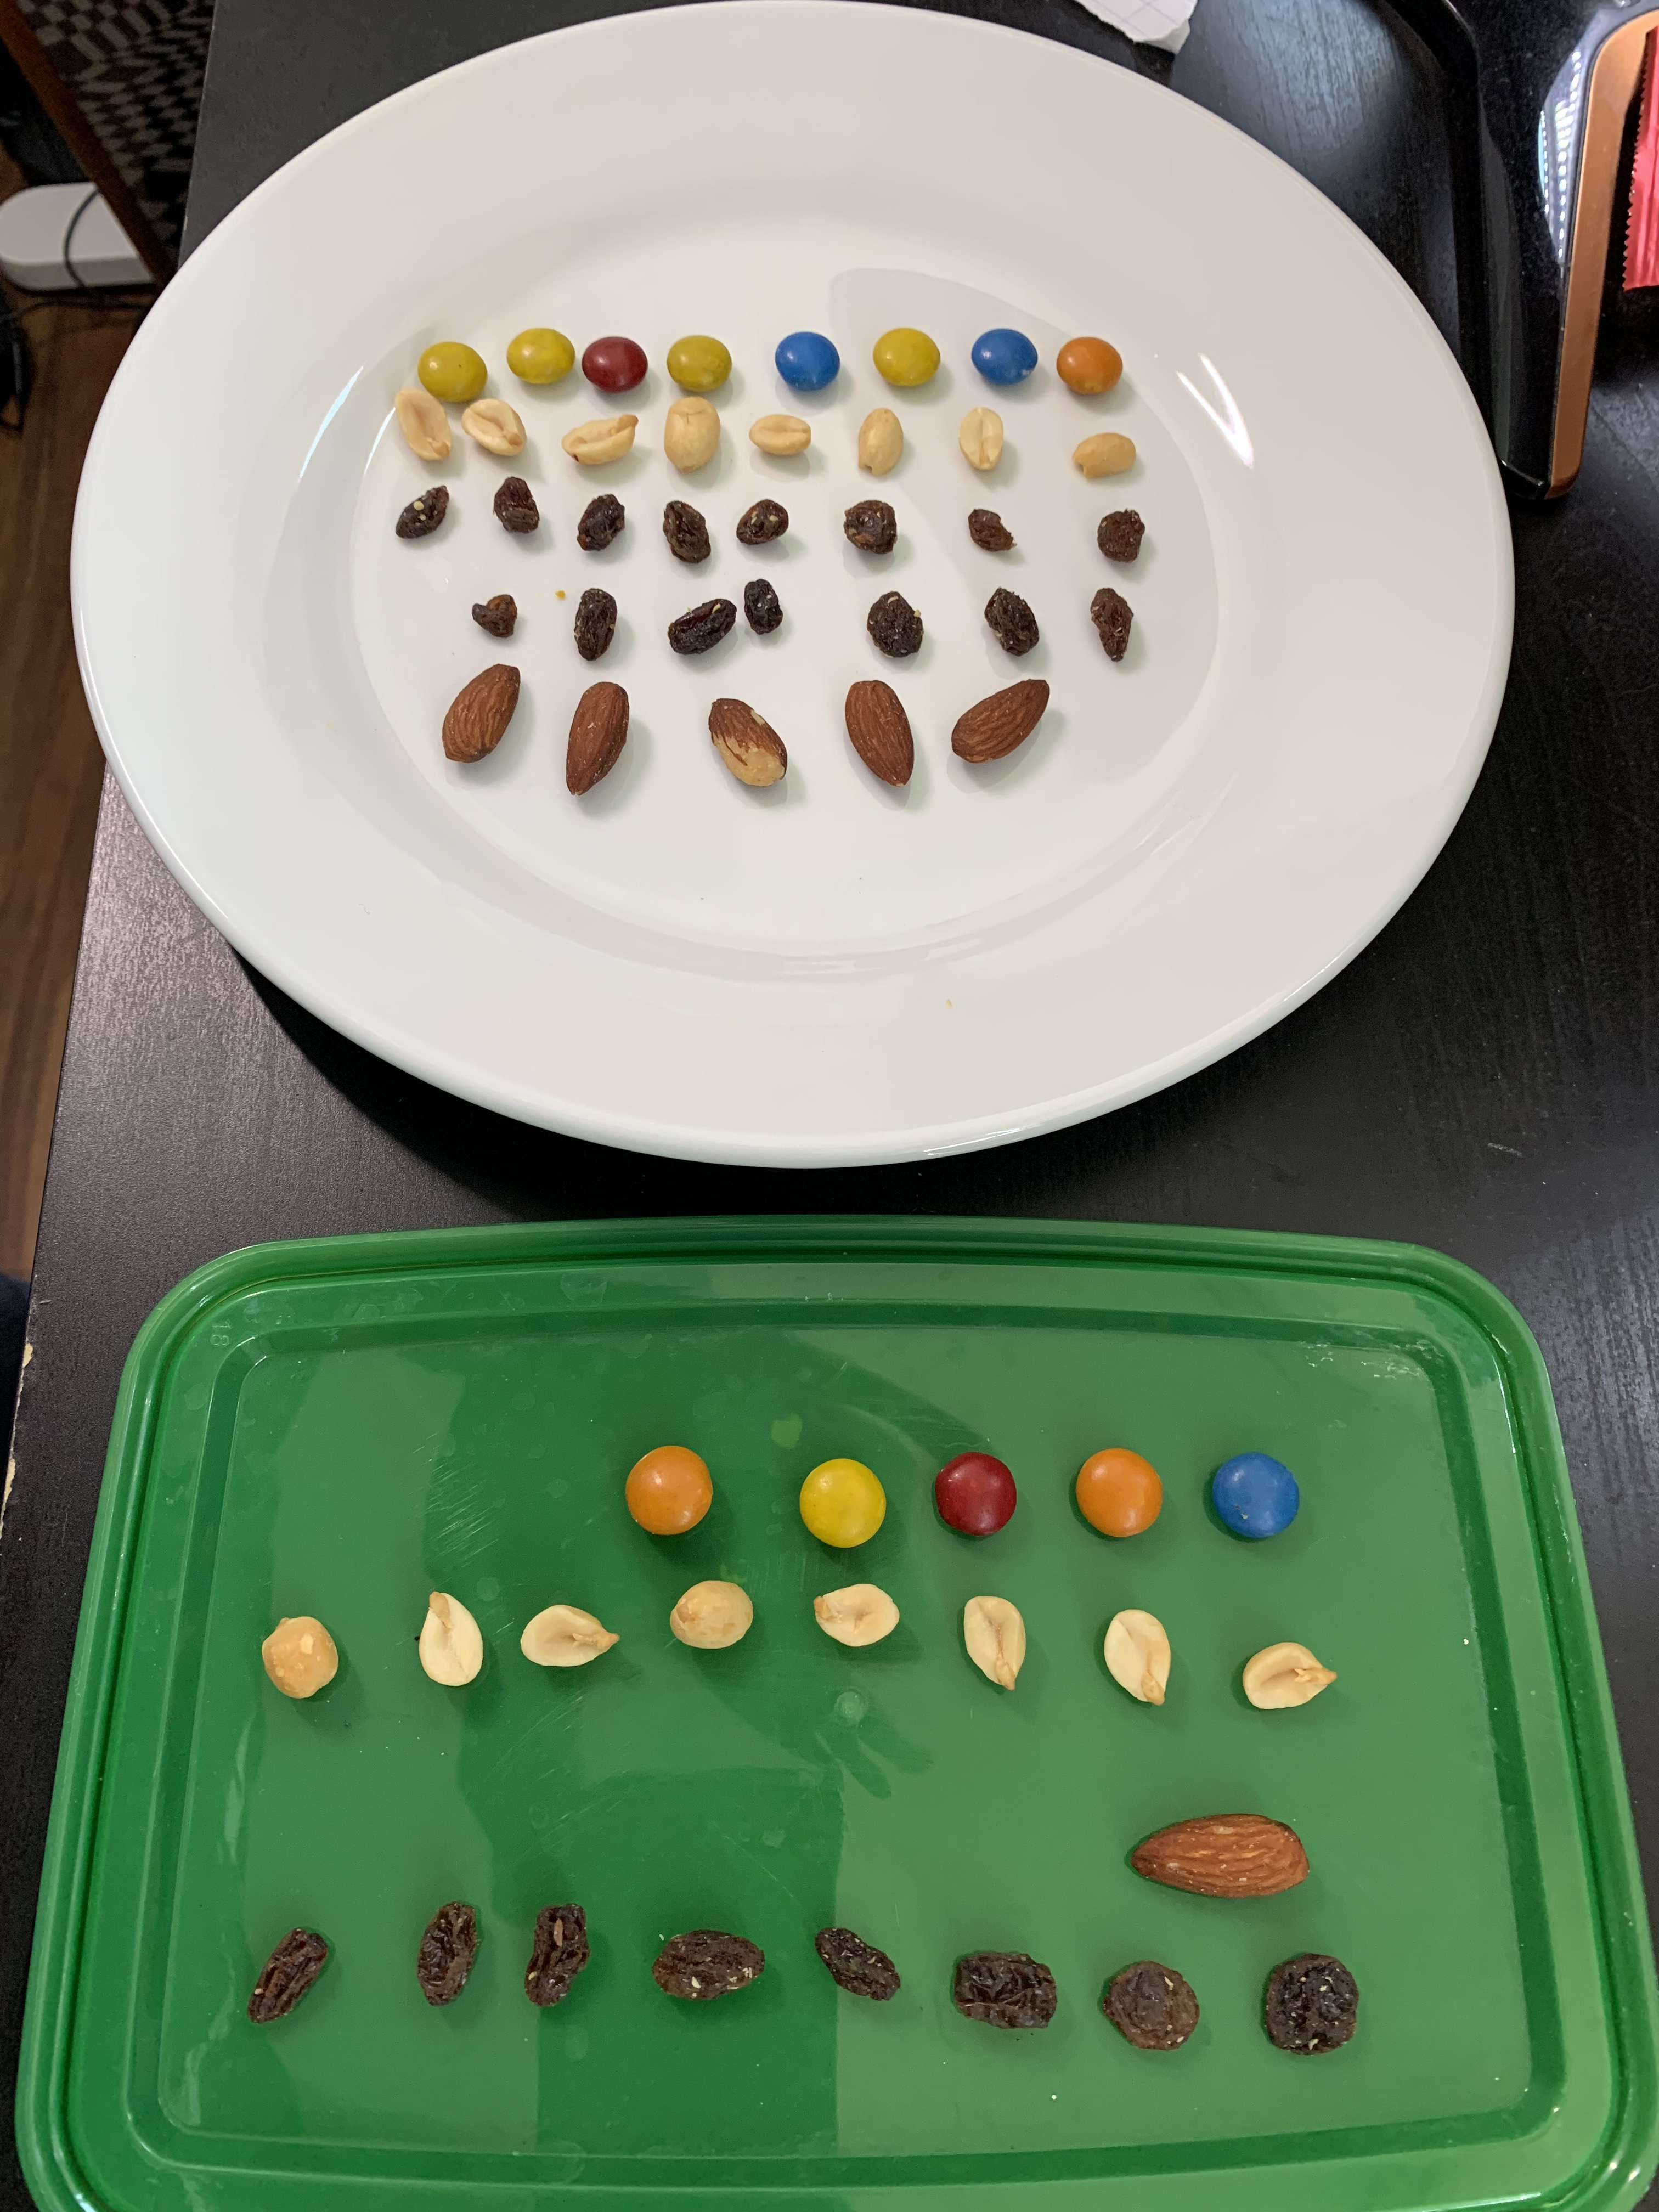almond: (1129, 1811, 1310, 1898), (951, 679, 1051, 763), (441, 664, 521, 763), (566, 683, 631, 798), (845, 681, 915, 787), (708, 697, 788, 787)
mm: (1073, 1446, 1166, 1540), (798, 1456, 885, 1550), (626, 1444, 713, 1536), (1211, 1451, 1300, 1540), (934, 1451, 1018, 1538), (416, 340, 488, 402), (873, 327, 941, 387), (505, 327, 575, 383), (1056, 338, 1122, 395), (667, 334, 732, 392), (775, 331, 840, 388), (972, 327, 1039, 383), (582, 336, 648, 390)
peanut: (1103, 1609, 1173, 1707), (261, 1615, 340, 1700), (519, 1602, 620, 1669), (1241, 1641, 1337, 1710), (418, 1588, 484, 1688), (962, 1595, 1028, 1691), (667, 1580, 755, 1649), (810, 1581, 901, 1648), (664, 394, 721, 475), (396, 387, 455, 462), (561, 413, 640, 467), (462, 399, 528, 458), (857, 408, 903, 474), (958, 406, 1004, 470), (1072, 432, 1136, 477), (749, 413, 812, 456)
raisin: (1263, 1952, 1361, 2055), (1103, 1959, 1202, 2050), (652, 1928, 765, 2001), (955, 1951, 1058, 2031), (247, 1926, 329, 2024), (525, 1902, 591, 2006), (812, 1926, 903, 2001), (416, 1900, 479, 2006), (667, 597, 737, 655), (866, 590, 924, 658), (985, 587, 1039, 657), (1091, 587, 1134, 664), (573, 589, 619, 660), (662, 500, 711, 563), (396, 484, 450, 538), (845, 500, 897, 556), (579, 493, 626, 552), (493, 475, 540, 533), (1098, 510, 1147, 563), (735, 498, 789, 545), (969, 507, 1019, 554), (746, 578, 784, 634), (471, 594, 519, 637)
